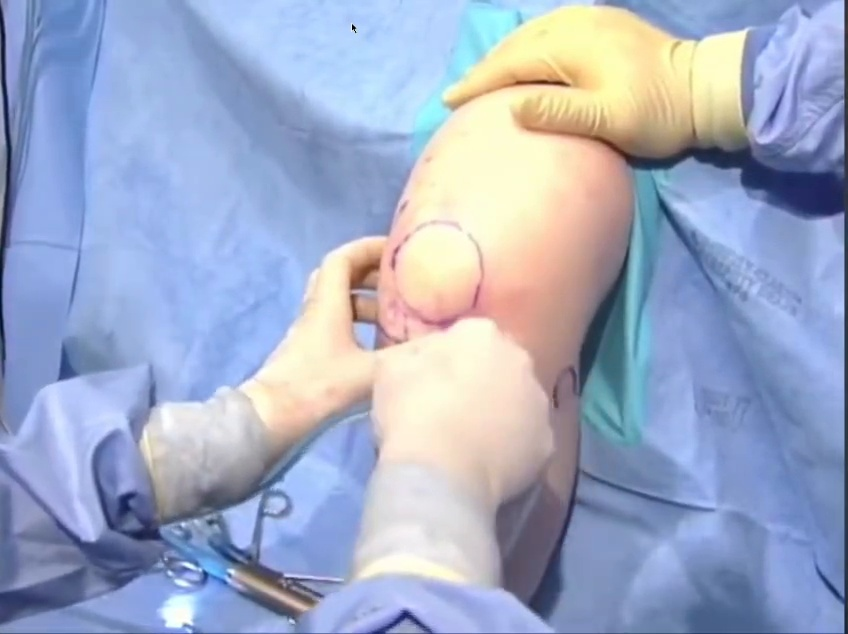arthroscope: (170, 217, 424, 620), (729, 176, 848, 613)
probe: (656, 180, 769, 306)
